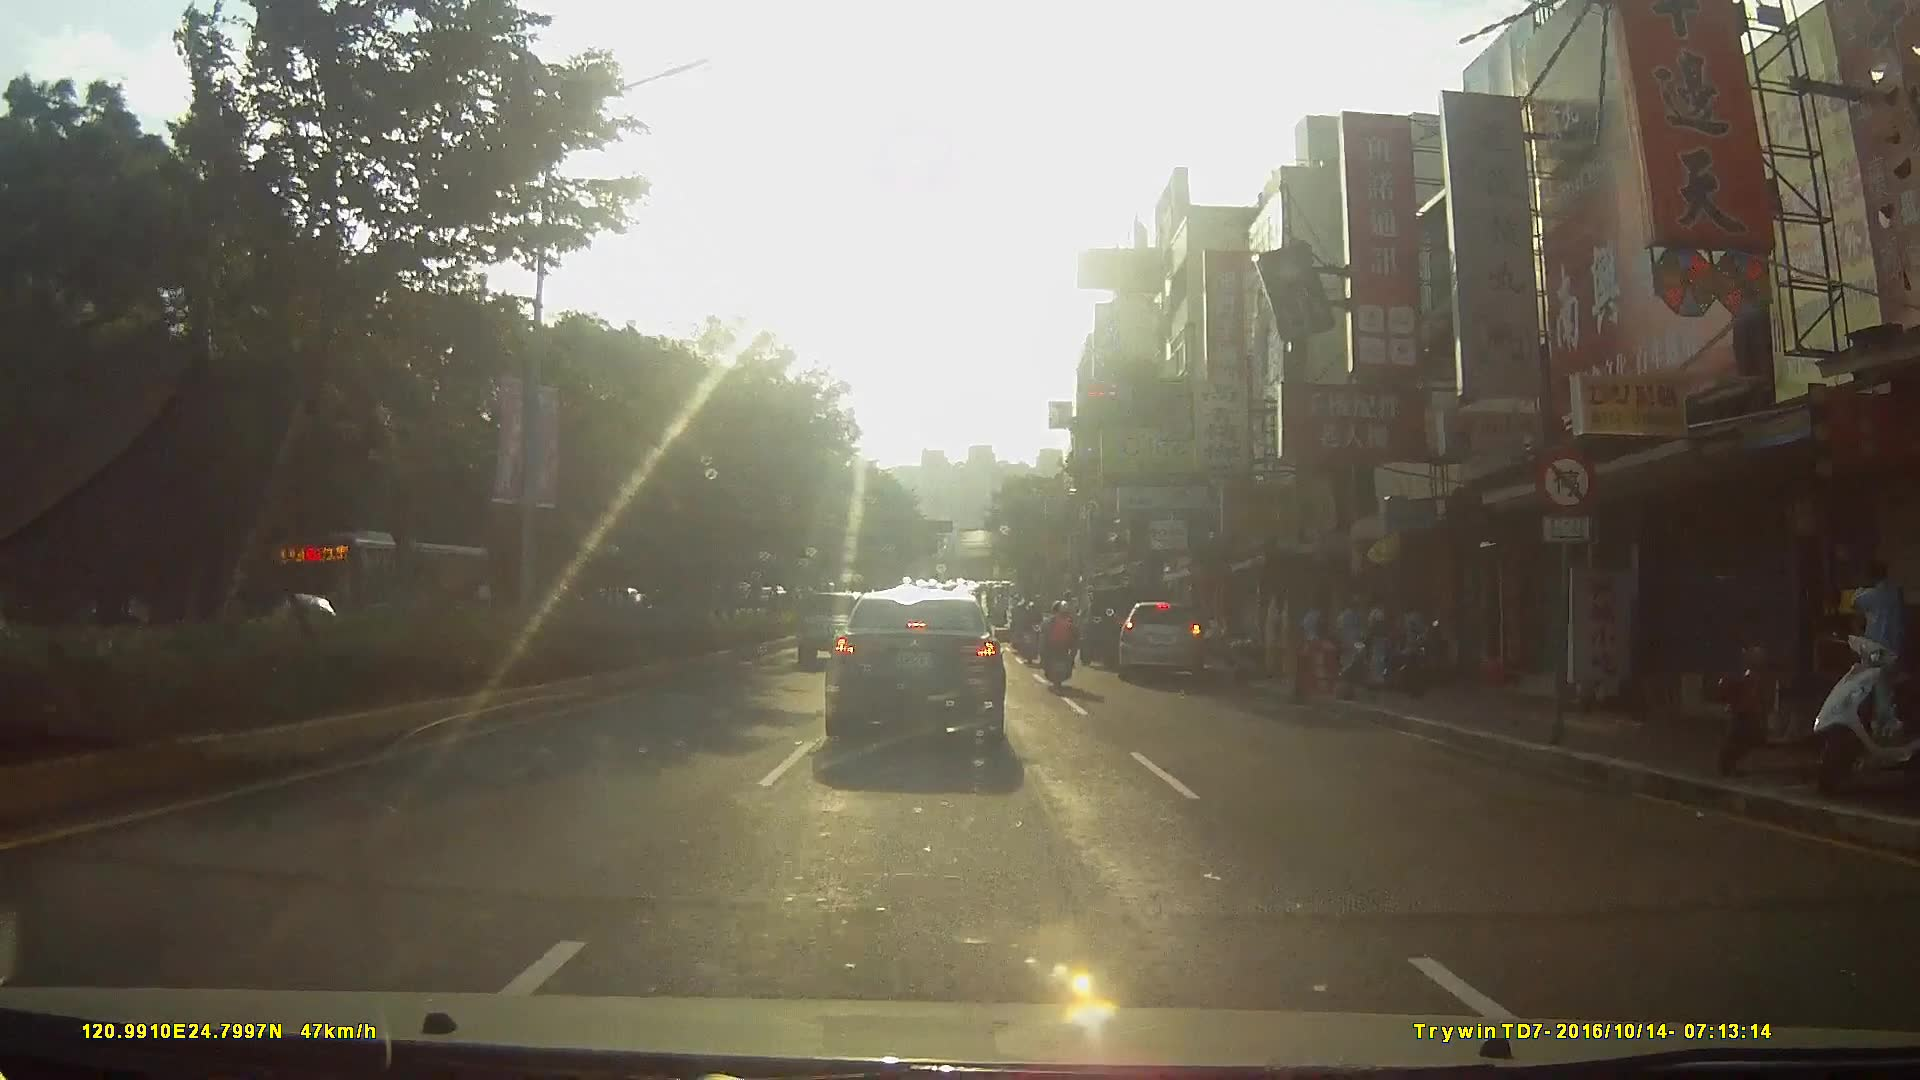pedestrian: (1847, 559, 1906, 740), (1368, 596, 1388, 655)
rider: (1044, 601, 1088, 698), (1017, 599, 1043, 664)
vehicle: (823, 588, 1031, 763), (262, 532, 492, 661), (1119, 603, 1212, 690), (1077, 578, 1157, 667)
